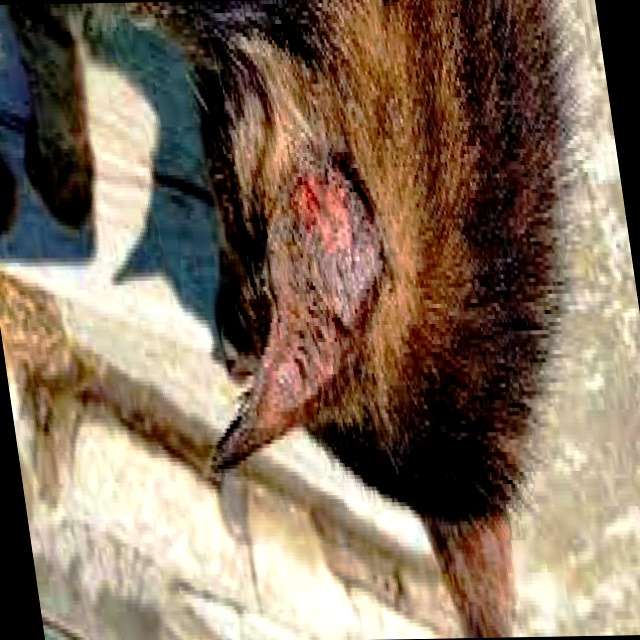ringworm: (266, 141, 393, 360)
